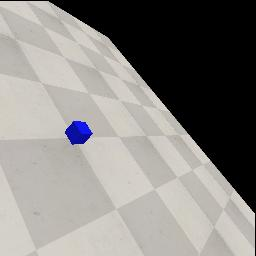box: (65, 121, 93, 145)
